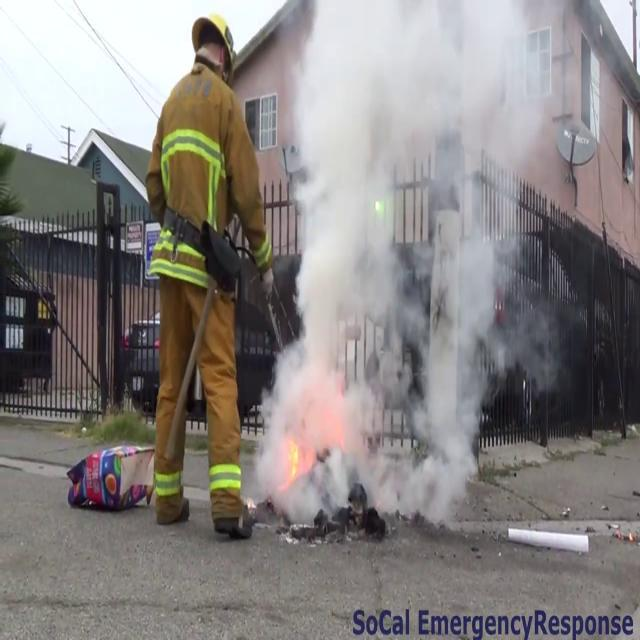Smoke: (257, 0, 555, 531)
